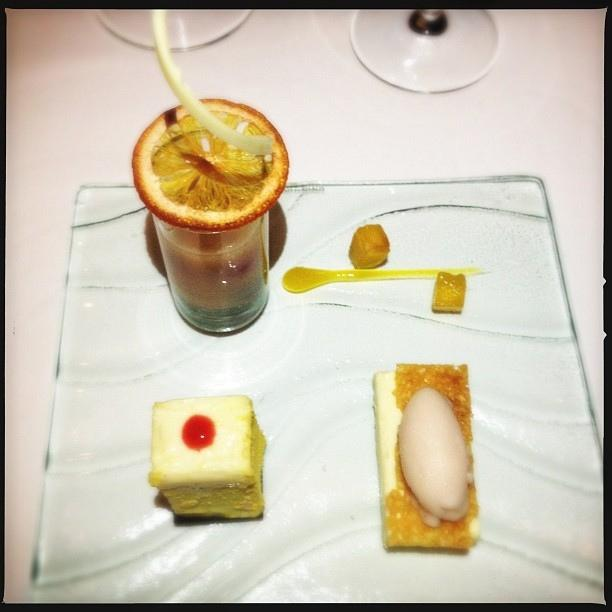orange: (132, 98, 291, 232)
